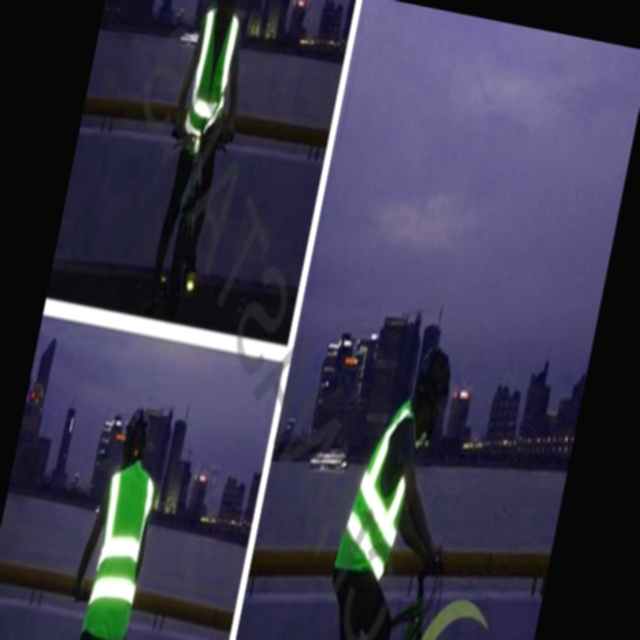Con_Chaleco: (331, 399, 429, 581), (76, 458, 163, 640), (176, 6, 244, 155)
